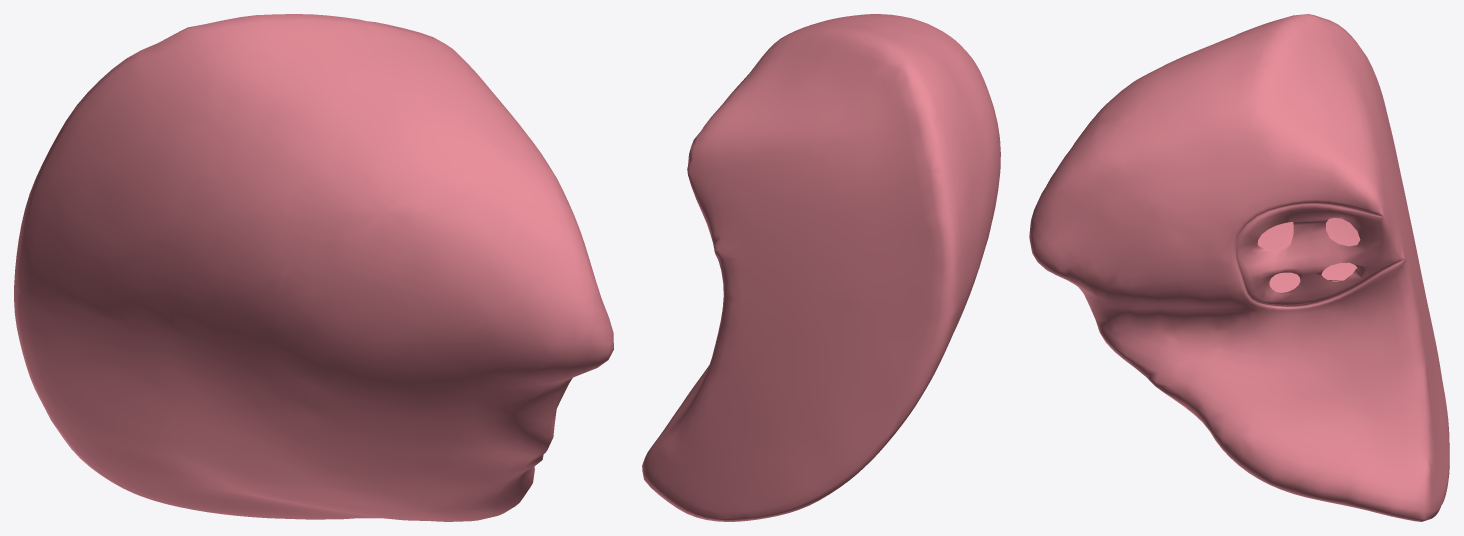
The picture shows the model from 3 angles, left to right: view 1: azimuth 30°, elevation 25°; view 2: azimuth 150°, elevation 25°; view 3: azimuth 270°, elevation 25°; orthographic projection. The views are drawn at different scales.
Visible parts, largest first — view 1: 右肺上叶; view 2: 右肺上叶; view 3: 右肺上叶.
Boxes of the visible parts, box(x1,y1,x2,y2) form: 右肺上叶: box(14, 14, 613, 521); 右肺上叶: box(642, 14, 1000, 521); 右肺上叶: box(1029, 14, 1449, 521).
Size of the model in its own units: 0.1624 by 0.2293 by 0.2024.
